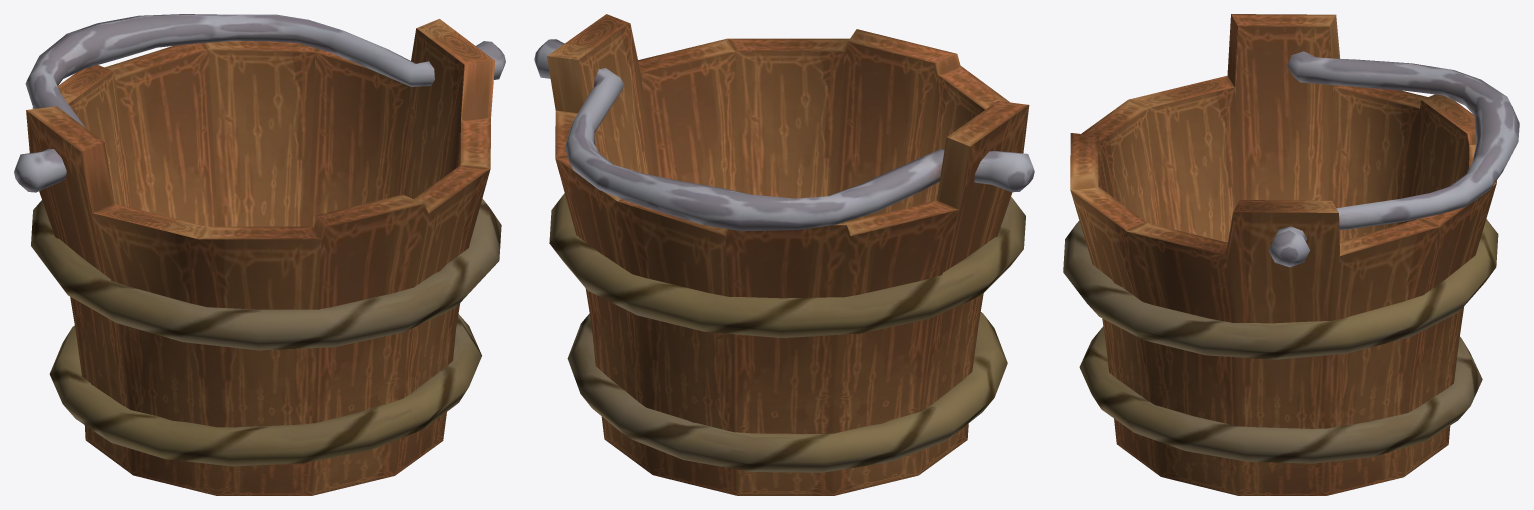
File: Bucket_Wooden_1.gltf
3 renders of one model, left to right at view 1: azimuth 30°, elevation 25°; view 2: azimuth 150°, elevation 25°; view 3: azimuth 270°, elevation 25°, orthographic. The views are drawn at different scales.
Parts seen in each view (by area): view 1: Bucket_Wooden_1; view 2: Bucket_Wooden_1; view 3: Bucket_Wooden_1.
Boxes of the visible parts, <box> form: Bucket_Wooden_1: <box>14,14,505,495</box>; Bucket_Wooden_1: <box>534,14,1034,495</box>; Bucket_Wooden_1: <box>1063,14,1519,495</box>.
Bounding box in the file's own units: 0.4339 × 0.2928 × 0.3834.
2 materials, 2 textured.
